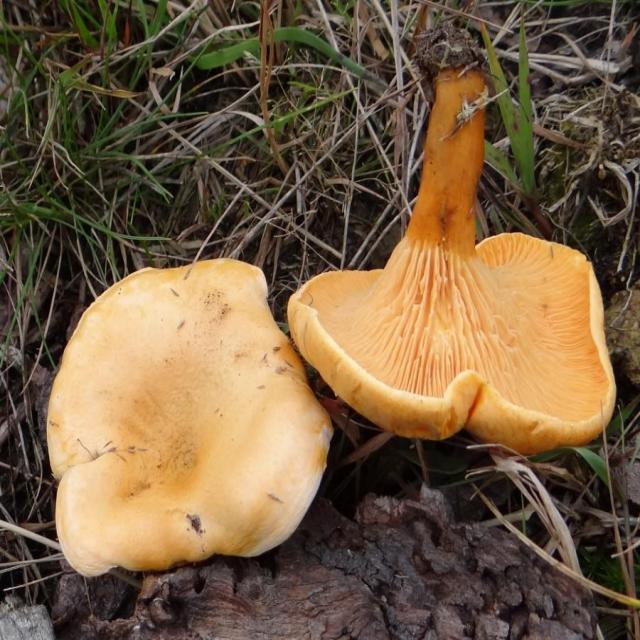Cantharellus cibarius: (292, 72, 618, 451), (49, 259, 332, 571)
